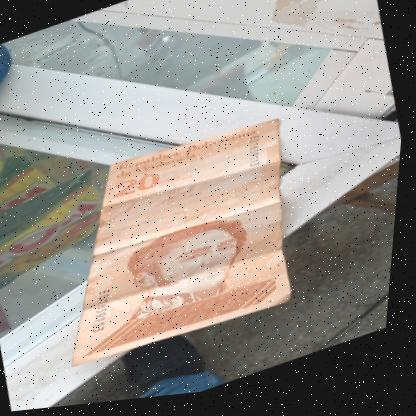twenty-front-vef: (5, 33, 276, 334)
